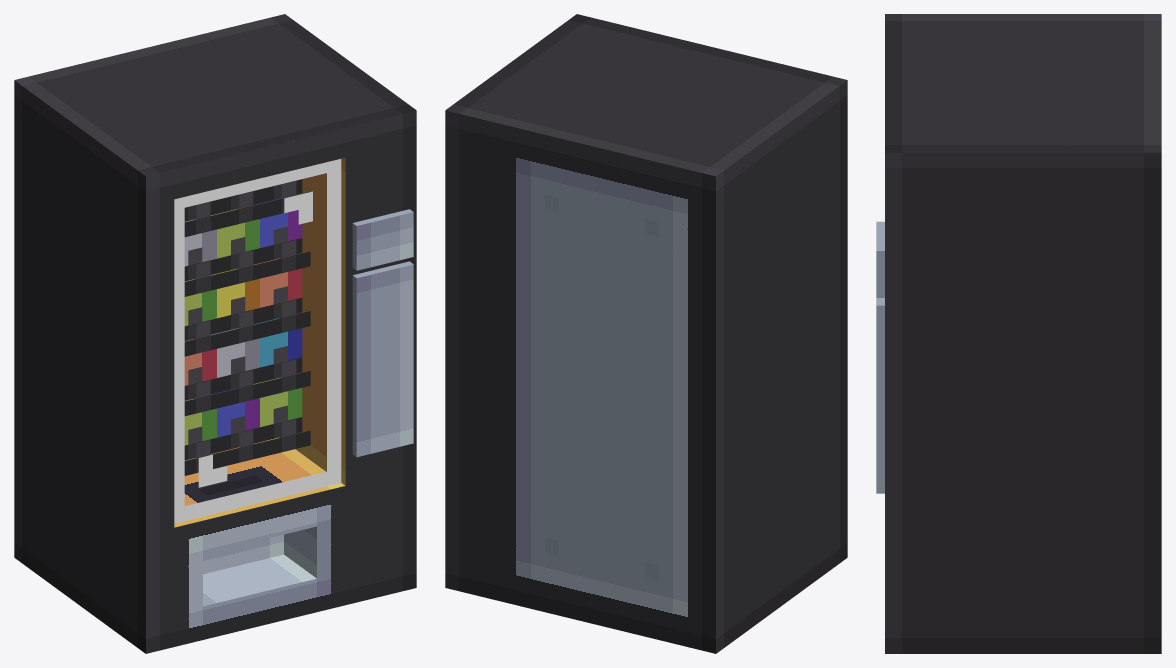
Rendered from printbooth.gltf.
3 views of the same model, side by side, from view 1: azimuth 30°, elevation 25°; view 2: azimuth 150°, elevation 25°; view 3: azimuth 270°, elevation 25° (orthographic). The views are drawn at different scales.
Visible parts, largest first — view 1: Vending, Product (×3), Panel, Glass; view 2: Vending; view 3: Vending, Panel.
Part boxes in pixels (x1,y1,x2,y2): Vending: (14, 14, 416, 653); Product (×3): (184, 179, 310, 475); Panel: (352, 209, 413, 457); Glass: (174, 159, 341, 523); Vending: (445, 14, 847, 653); Vending: (885, 14, 1161, 653); Panel: (876, 221, 884, 493).
Bounding box in the file's own units: 1.19 × 2 × 1.03.
Materials: 4 (4 with a texture image).
